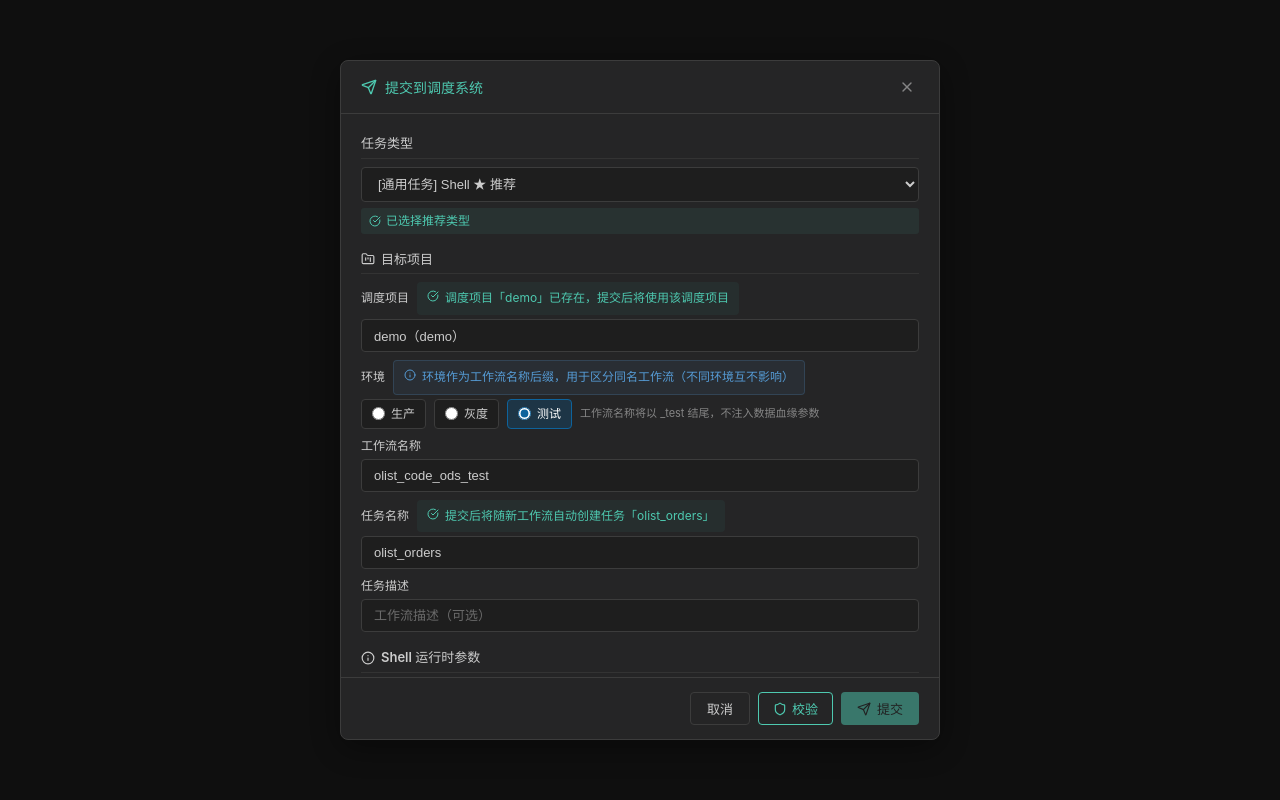
Test: SubmitToSchedulerModal — 生产环境的库环境闸门 › 生产环境 + 代码引用了非生产库：校验拦截，提交按钮保持禁用
Check: the field with test id "submit-scheduler-workflow-name" holds "olist_code_ods_test", box [361, 459, 919, 492]
Click the radio button labelled "生产" at (378, 414), box [372, 407, 385, 420]
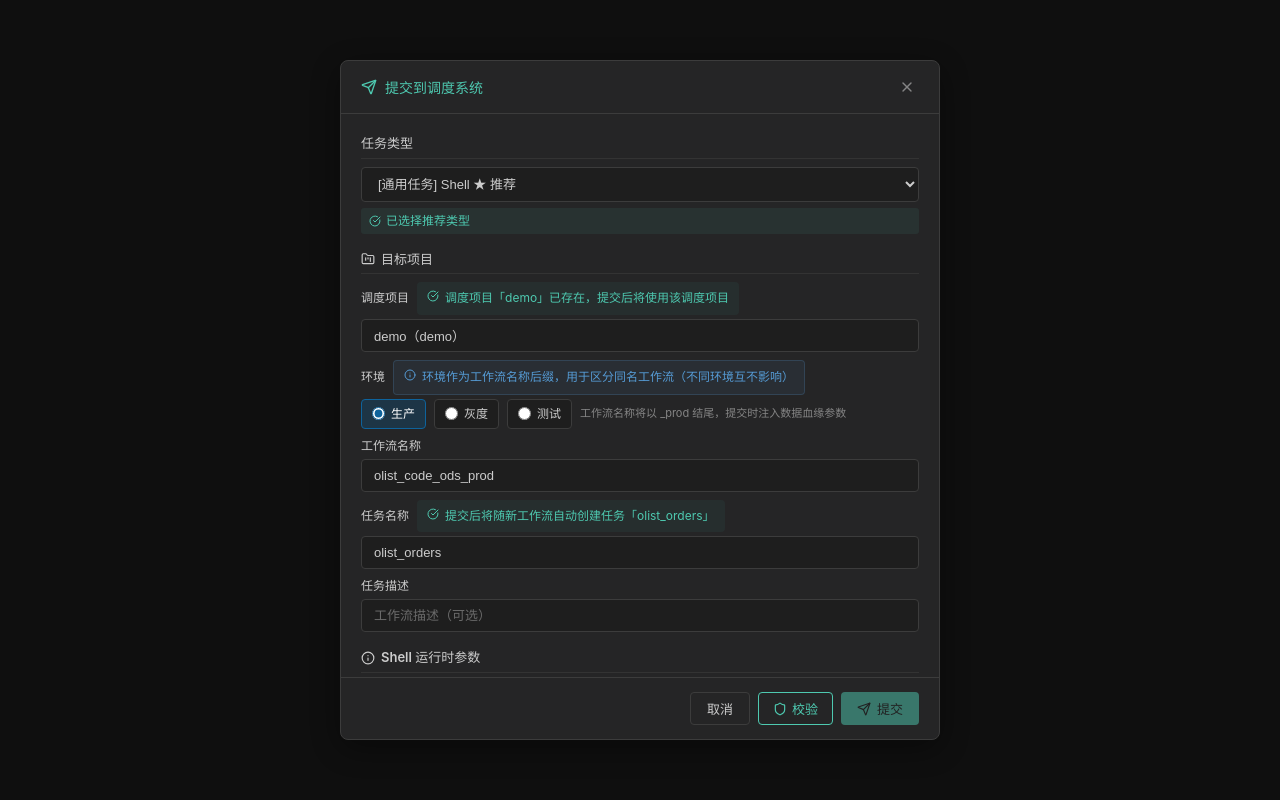
Check: the field with test id "submit-scheduler-workflow-name" holds "olist_code_ods_prod", box [361, 459, 919, 492]
Press the mouse on the button "校验" at (796, 708), box [758, 692, 833, 725]
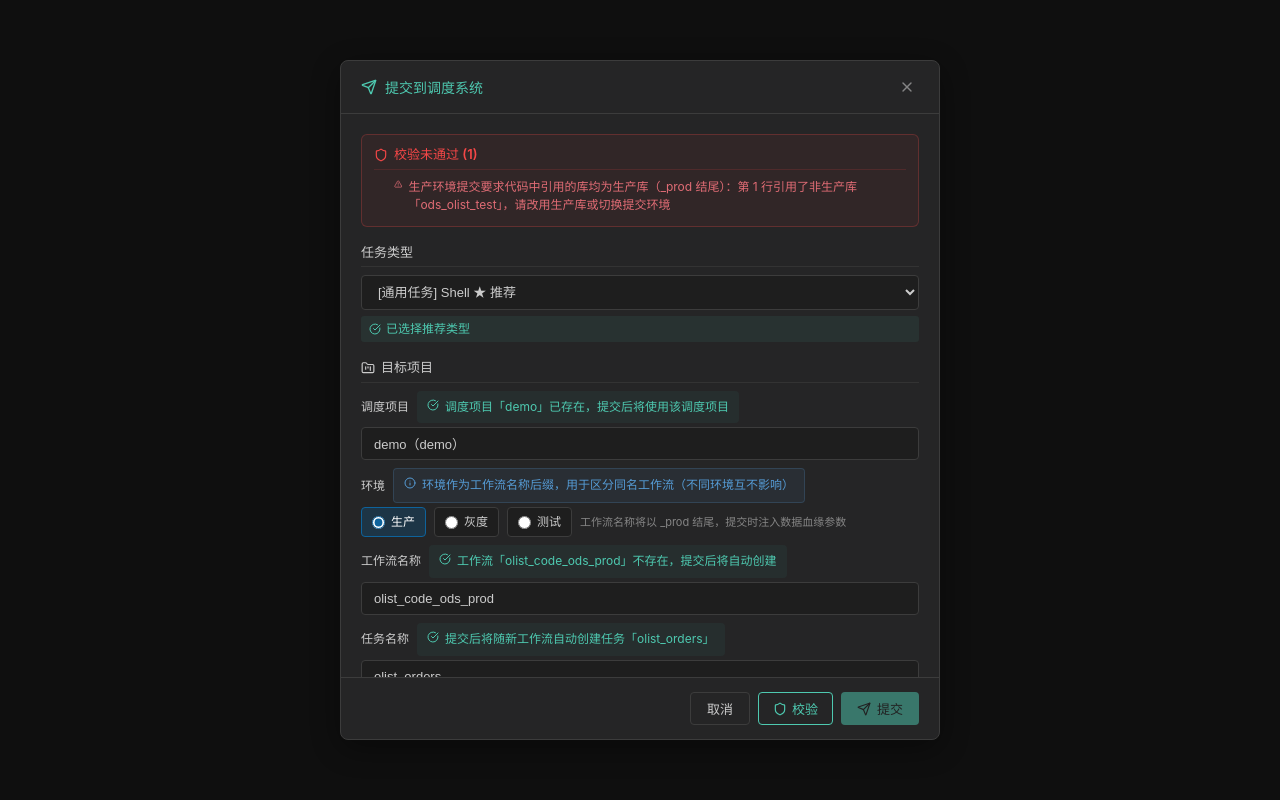
Check: the button with class "submit-scheduler__submit-btn" is disabled, box [841, 692, 919, 725]
Check: the text "非生产库「ods_olist_test」" is shown, box [408, 178, 857, 212]
Check: the text "第 1 行" is shown, box [408, 178, 857, 212]
